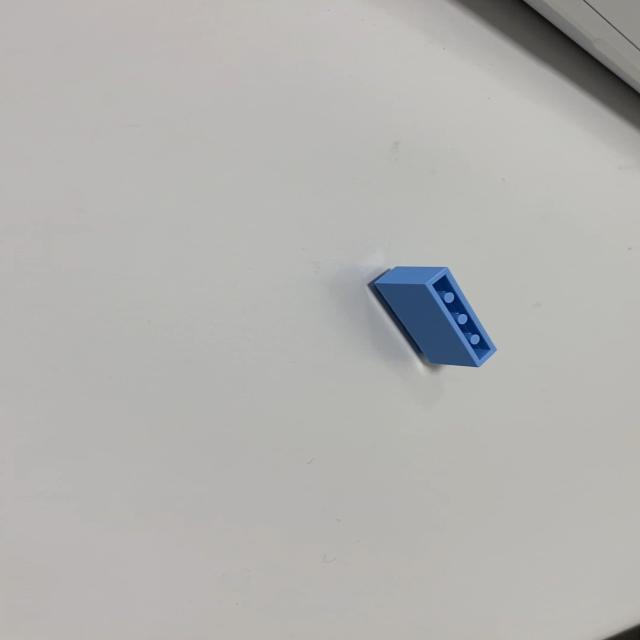C4x1x1: (366, 265, 496, 368)
